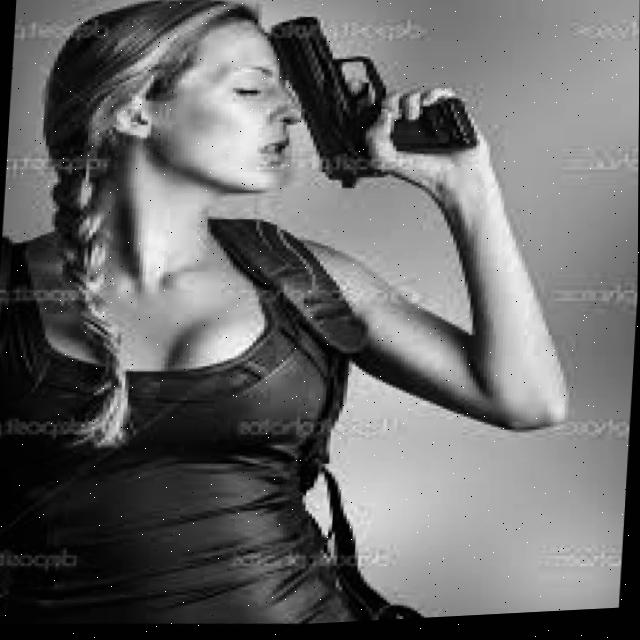pistol: (260, 12, 394, 195)
